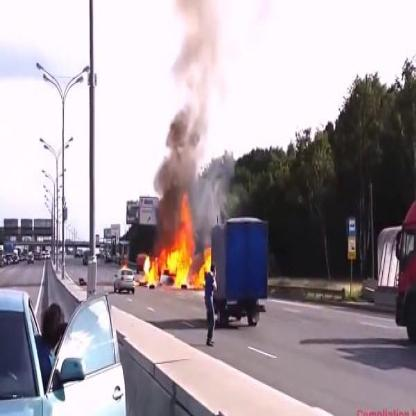fire: (141, 196, 211, 290)
